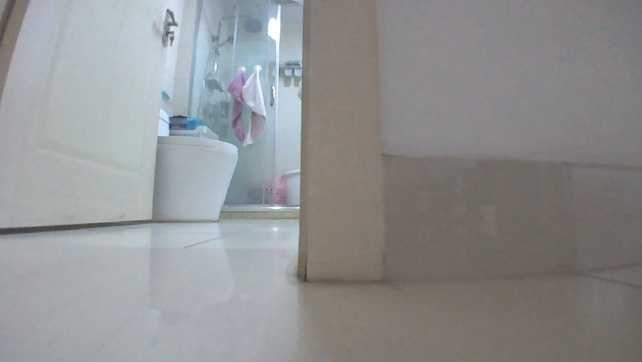door_anno: (0, 1, 179, 233)
toilet: (153, 105, 240, 222)
